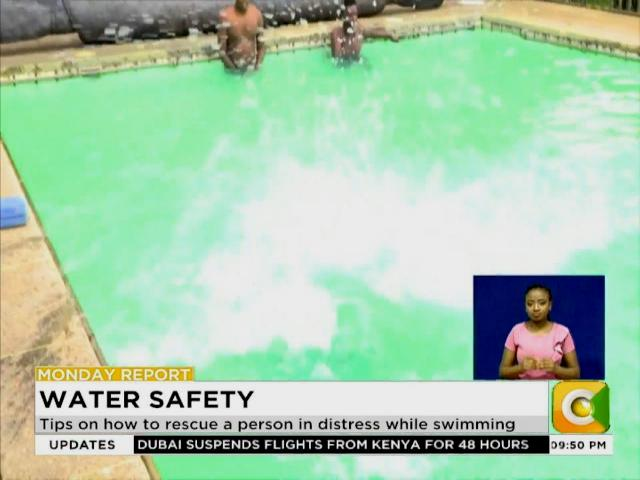swimming: (212, 0, 282, 90), (320, 0, 370, 83)
